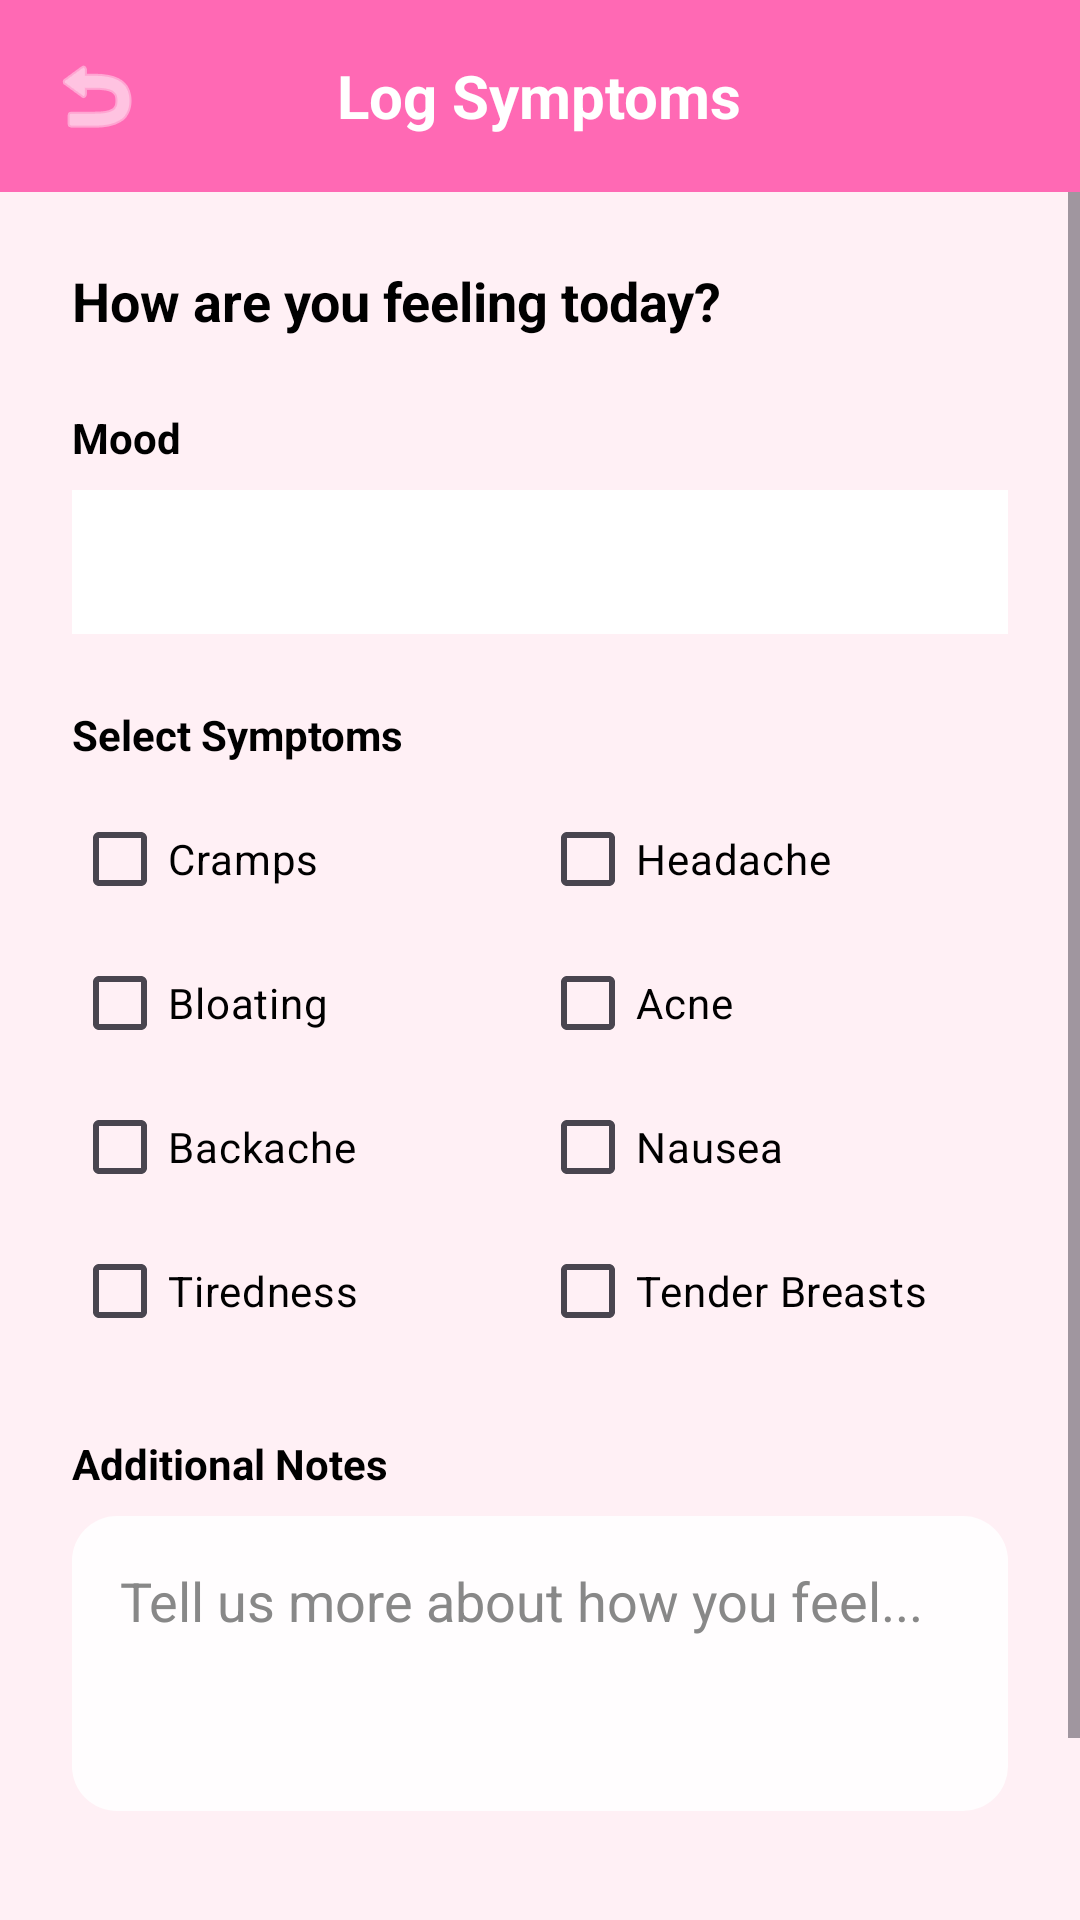

Where to tap for icons on this 1080*1920 app screen, as (x=x, y=y):
Back: (x=97, y=97)
